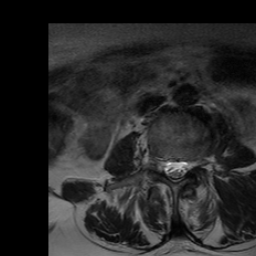CCS_normal: (172, 151, 179, 187)
LFS_normal: (190, 149, 199, 175)
LLS_normal: (181, 155, 189, 183)
RFS_normal: (153, 147, 164, 180)
RLS_normal: (163, 152, 172, 183)
